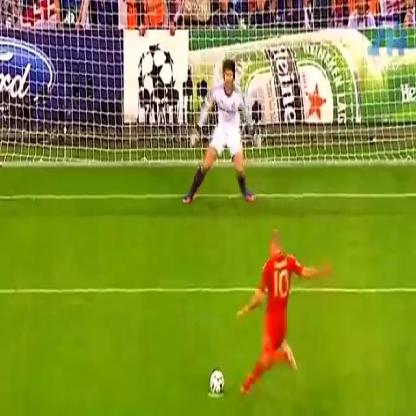penalty kick: (174, 14, 316, 403)
